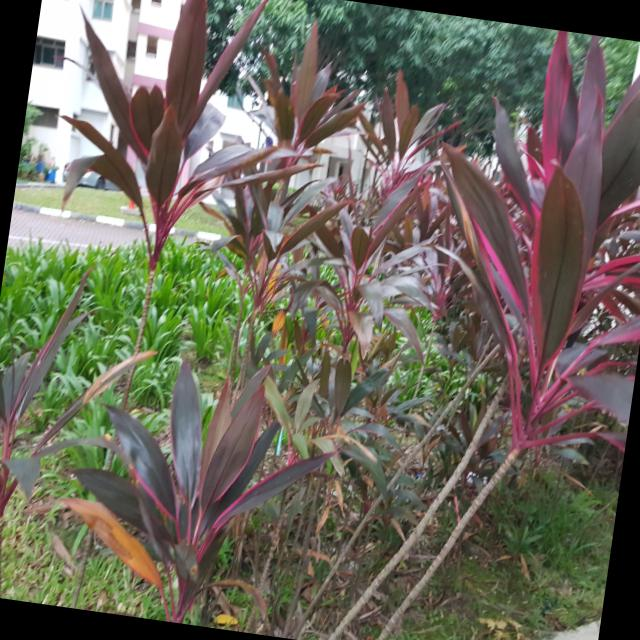Ti: (415, 19, 640, 488), (50, 367, 346, 623), (37, 0, 304, 262), (0, 256, 150, 559)
